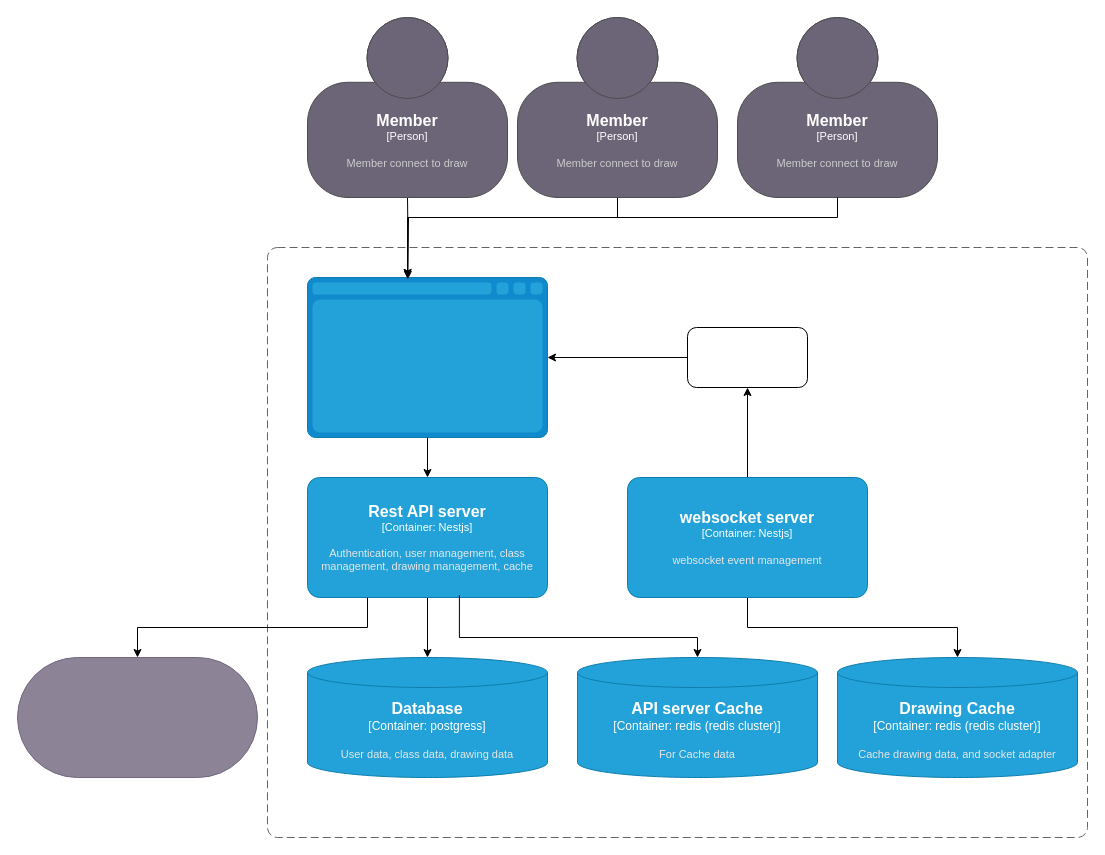
This 1105x855 diagram has some shape labels left out. Each missing label, with the box of its shape:
client [Container: vuejs] FE show on webbrowser: (306, 276, 548, 438)
External system [Software System] External system for file store: (16, 656, 258, 778)
Online drawing system [C2 level]: (266, 246, 1088, 838)
websocket: (686, 326, 808, 388)
